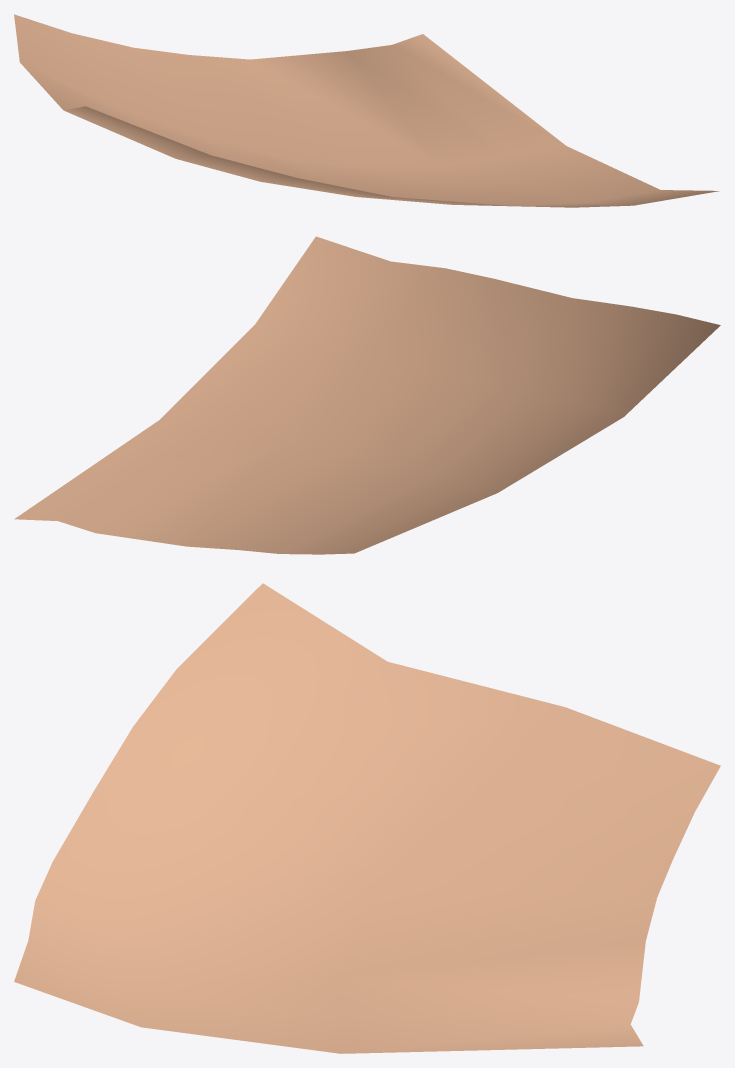
The model's file is submental-triangle-r.glb.
3 views of the same model, one above another, from view 1: azimuth 30°, elevation 25°; view 2: azimuth 150°, elevation 25°; view 3: azimuth 270°, elevation 25° (orthographic). The views are drawn at different scales.
Parts seen in each view (by area): view 1: Submental triangle.r; view 2: Submental triangle.r; view 3: Submental triangle.r.
Part boxes in pixels (left/top/right/bottom): Submental triangle.r: left=14, top=14, right=719, bottom=207; Submental triangle.r: left=14, top=236, right=720, bottom=554; Submental triangle.r: left=14, top=583, right=720, bottom=1053.
Size of the model in its own units: 0.0274 by 0.00975 by 0.0307.
